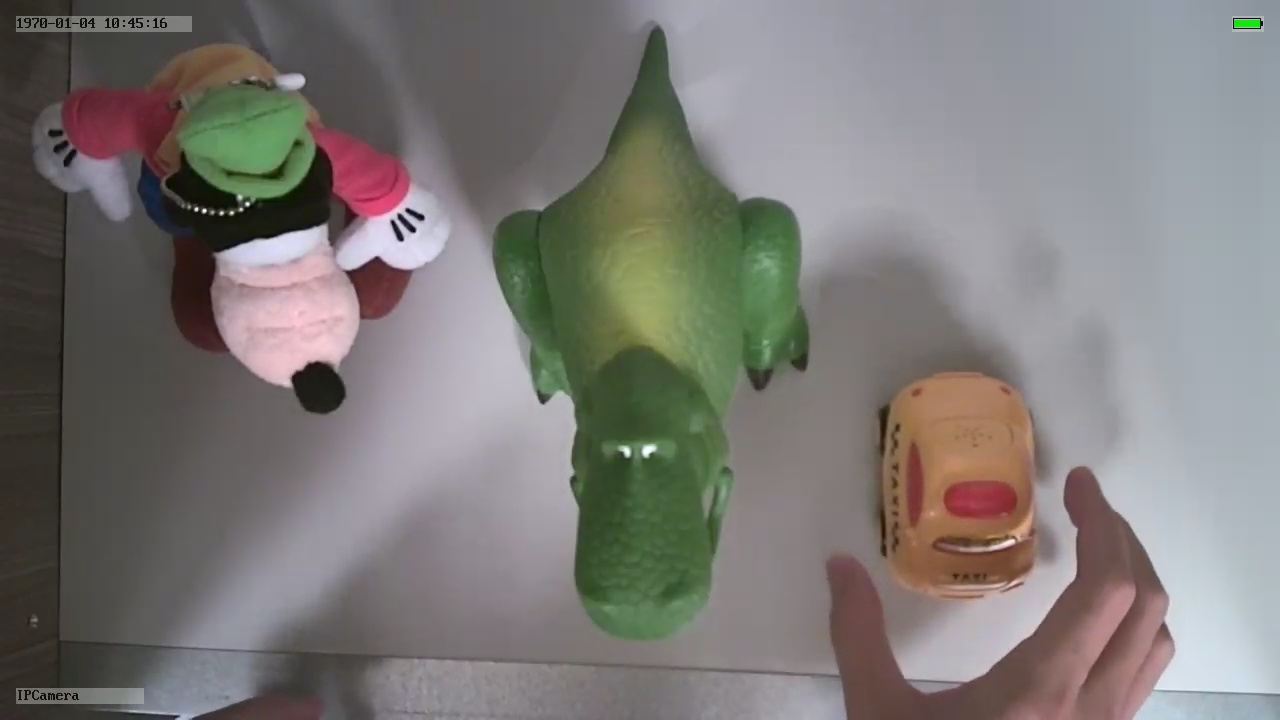car: (874, 364, 1045, 601)
goofy: (30, 37, 453, 409)
rex: (491, 113, 815, 641)
